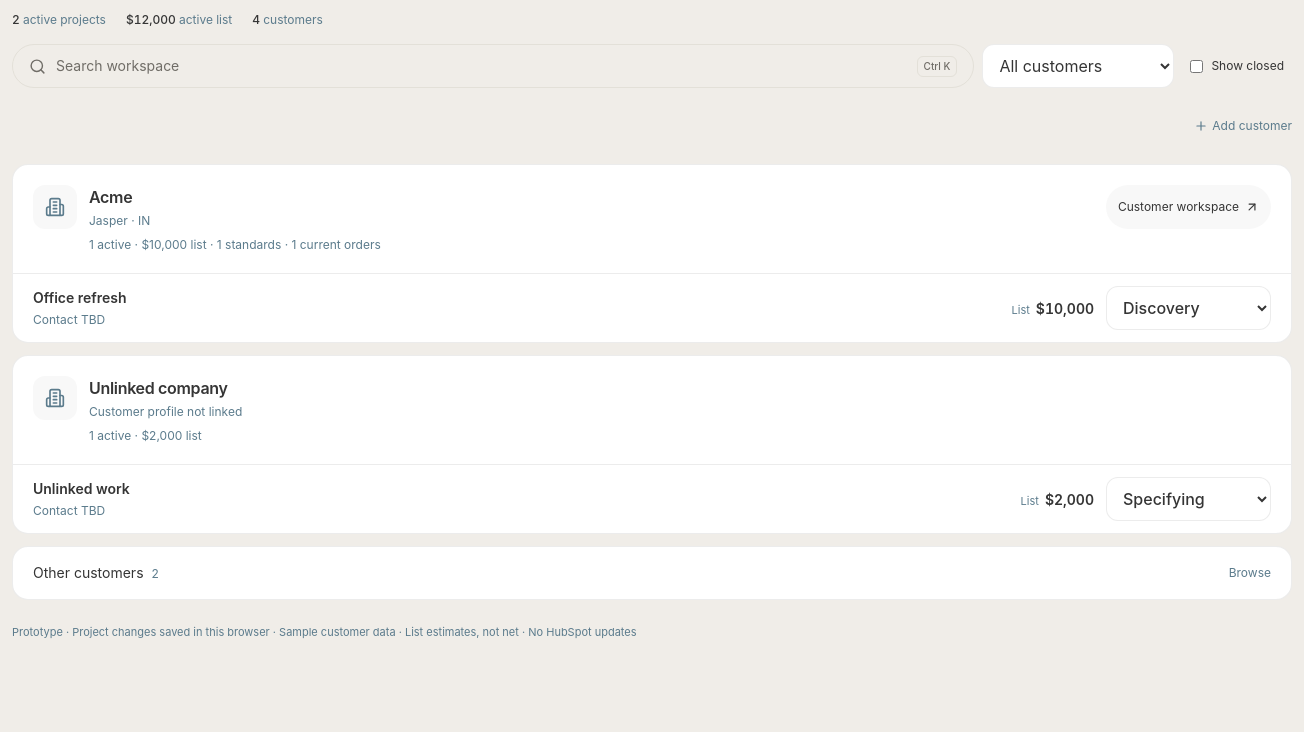
ProjectsWorkspace › filters by customer and finds empty customer profiles by name
Select "Acme" in the dropdown named "Filter by customer" at (1078, 66), box [982,44,1174,88]
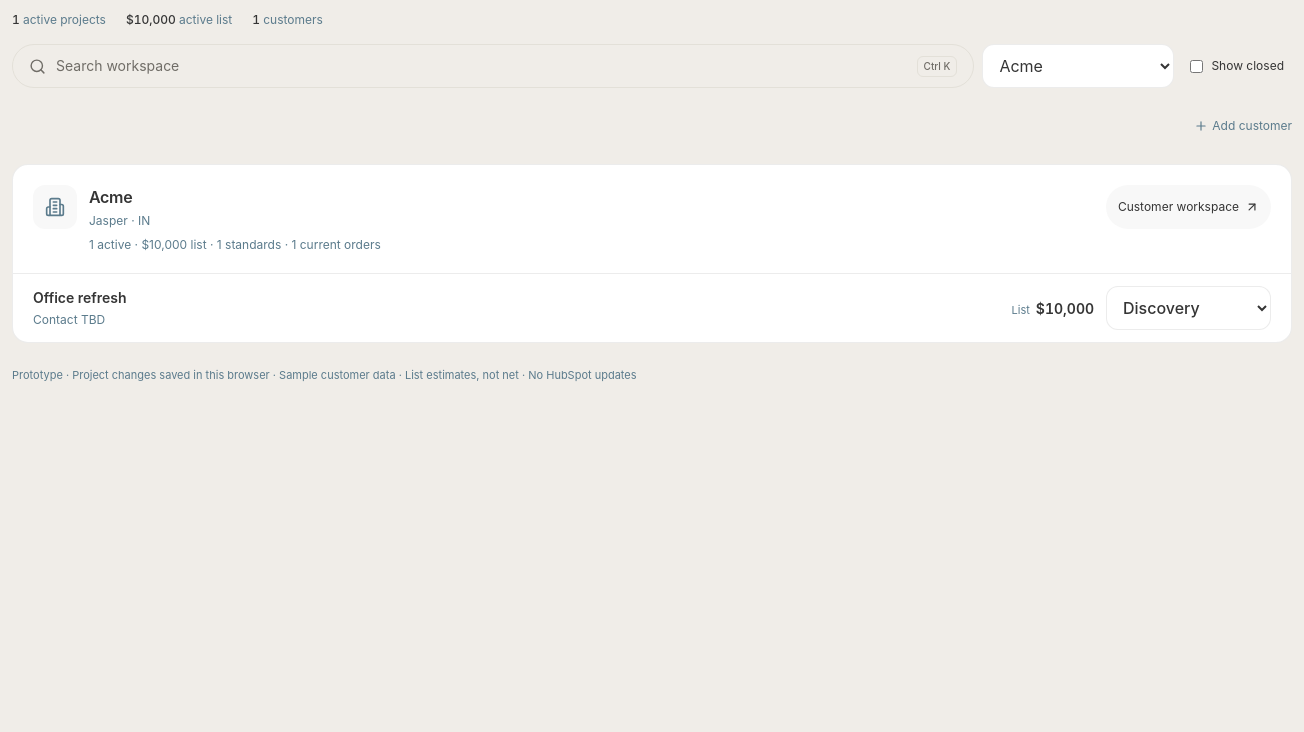
Now the button "Unlinked work" is gone
Select "All customers" in the dropdown named "Filter by customer" at (1078, 66), box [982,44,1174,88]
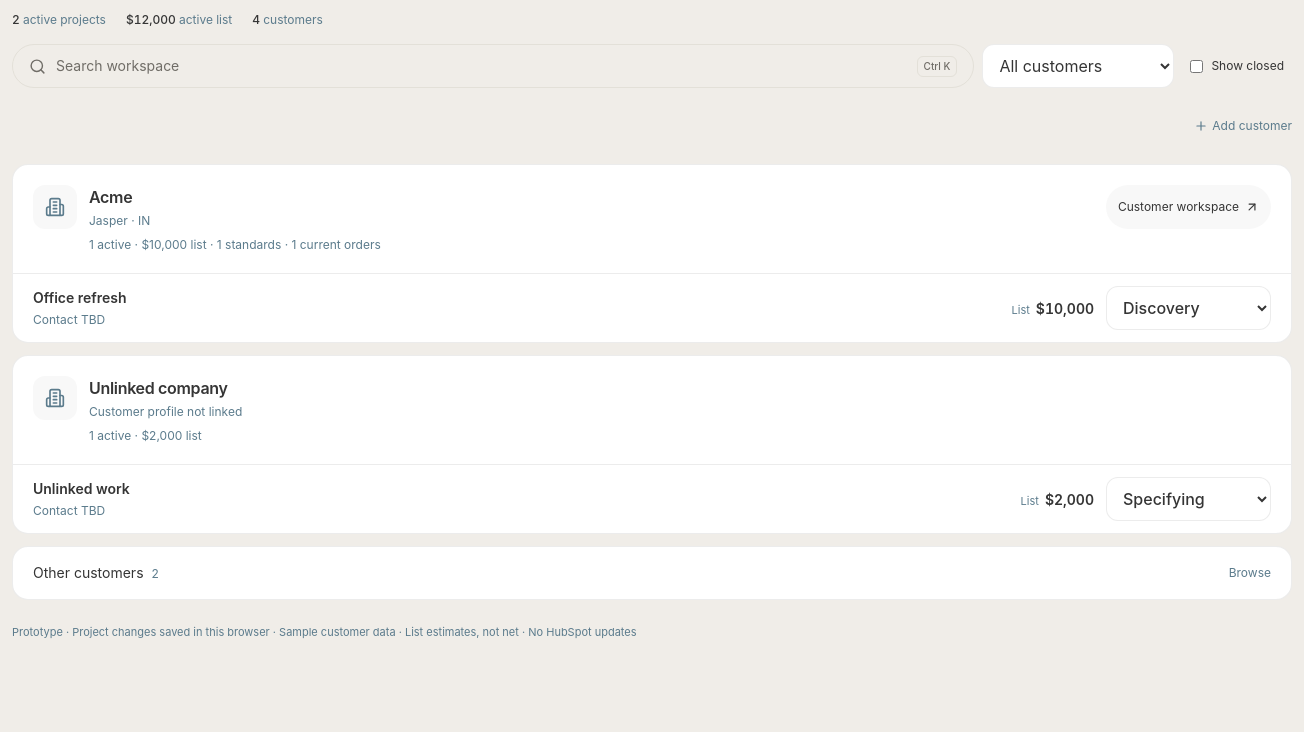
Select "Empty customer" in the dropdown named "Filter by customer" at (1078, 66), box [982,44,1174,88]
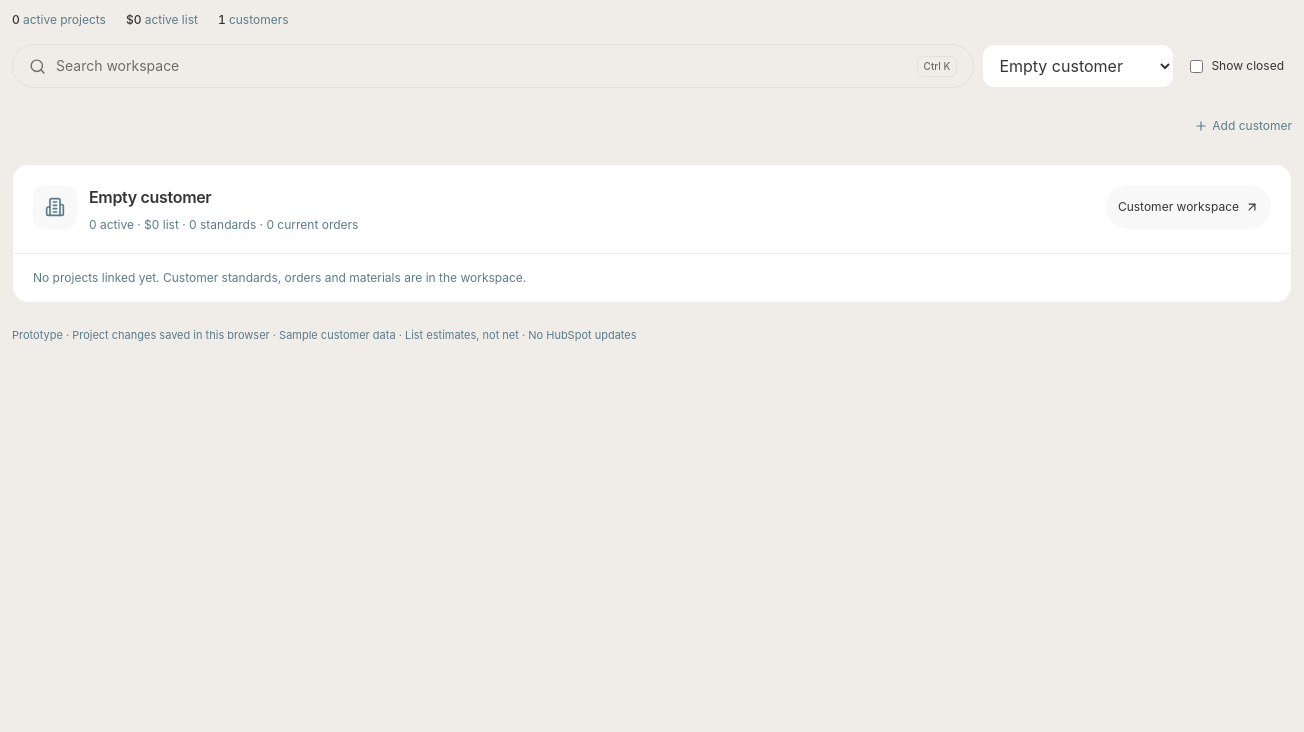
Now the element named "Empty customer projects" is shown, box [12,164,1292,303]
